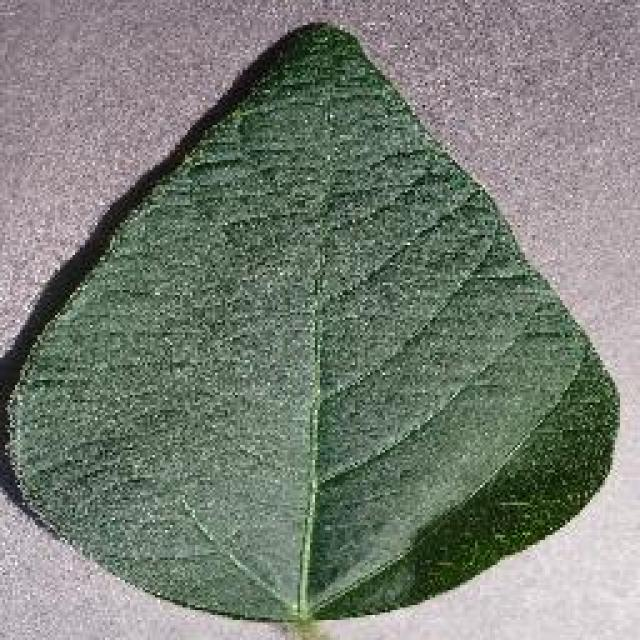Soy_healthy: (45, 91, 531, 581)
